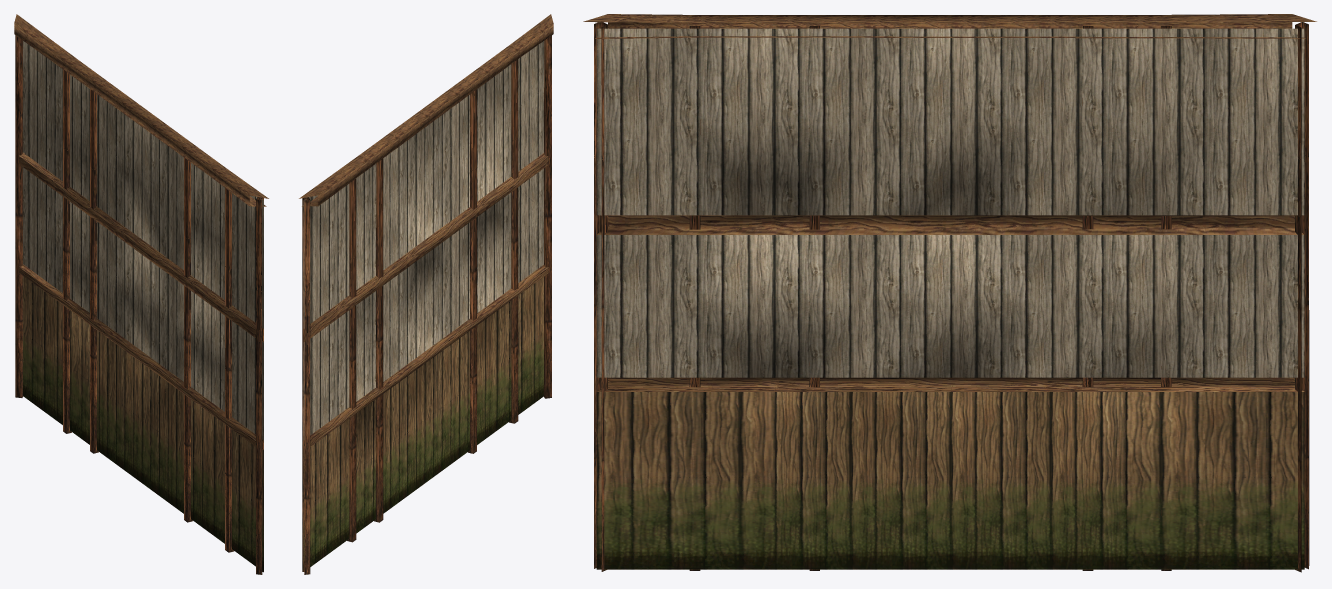
Rendered from LAKETOWN_WAREHOUSE3_PS_WH3_SIDEWALL3838__GX.fbx.
3 views of the same model, side by side, from view 1: azimuth 30°, elevation 25°; view 2: azimuth 150°, elevation 25°; view 3: azimuth 270°, elevation 25° (orthographic). The views are drawn at different scales.
Parts seen in each view (by area): view 1: LAKETOWN_WAREHOUSE3_PS_WH3_SIDEWALL3838__GX; view 2: LAKETOWN_WAREHOUSE3_PS_WH3_SIDEWALL3838__GX; view 3: LAKETOWN_WAREHOUSE3_PS_WH3_SIDEWALL3838__GX.
Boxes of the visible parts, x1,y1,x2,y2 form: LAKETOWN_WAREHOUSE3_PS_WH3_SIDEWALL3838__GX: (14,14,268,574); LAKETOWN_WAREHOUSE3_PS_WH3_SIDEWALL3838__GX: (299,14,553,574); LAKETOWN_WAREHOUSE3_PS_WH3_SIDEWALL3838__GX: (583,14,1316,572).
Bounding box in the file's own units: 4885 × 136952 × 165440.
Materials: 6 (6 with a texture image).
